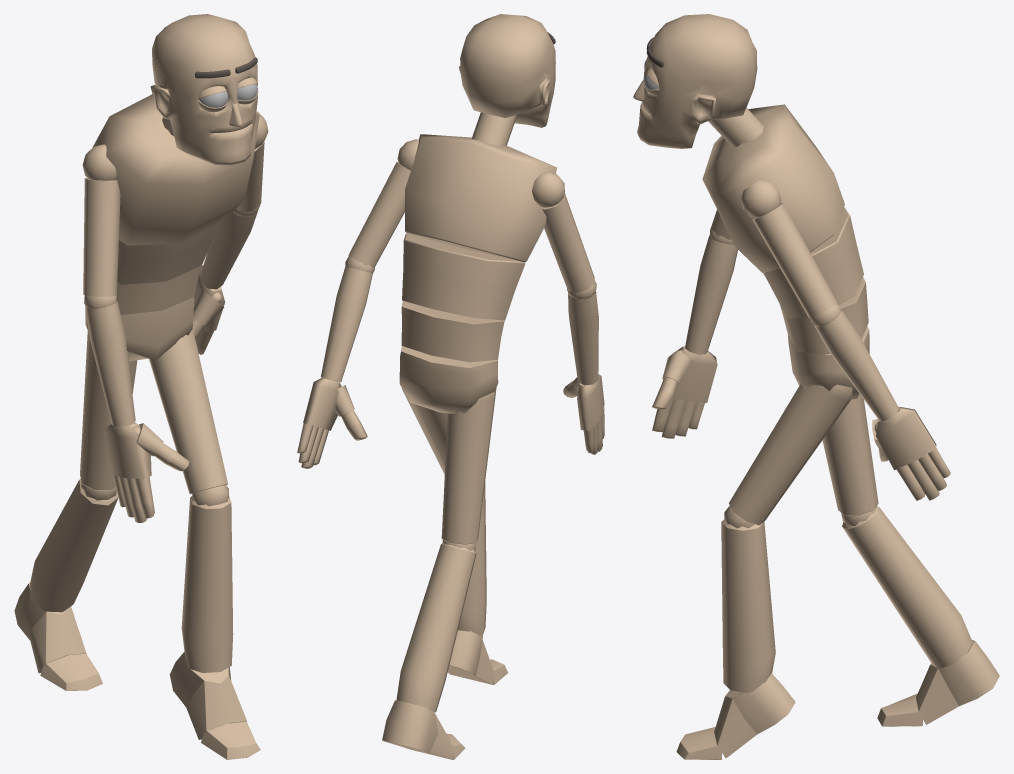
Rendered from Pose.fbx.
3 views of the same model, side by side, from view 1: azimuth 30°, elevation 25°; view 2: azimuth 150°, elevation 25°; view 3: azimuth 270°, elevation 25° (orthographic). The views are drawn at different scales.
Parts seen in each view (by area): view 1: Chest, Head, LeftCalf, LeftThigh, RightCalf, RightUpperArm, RightForearm, LeftHeel, RightThigh, UpperBack, RightHeel, Pelvis (+11 smaller); view 2: Chest, Head, UpperBack, RightCalf, RightThigh, Pelvis, LowerBack, LeftForearm, LeftUpperArm, RightUpperArm, RightHeel, RightForearm (+7 smaller); view 3: Chest, Head, RightCalf, LeftCalf, LeftThigh, RightThigh, LeftUpperArm, UpperBack, RightHeel, LeftHeel, LeftForearm, RightForearm (+9 smaller).
Boxes of the visible parts, box(x1,y1,x2,y2) form: Chest: box(92, 94, 259, 245); Head: box(150, 14, 257, 165); LeftCalf: box(181, 496, 233, 672); LeftThigh: box(149, 328, 227, 494); RightCalf: box(30, 478, 118, 612); RightUpperArm: box(83, 178, 120, 296); RightForearm: box(85, 300, 135, 426); LeftHeel: box(169, 652, 246, 739); RightThigh: box(80, 330, 137, 490); UpperBack: box(117, 224, 220, 284); RightHeel: box(14, 582, 86, 673); Pelvis: box(85, 297, 194, 361); Chest: box(405, 134, 556, 262); Head: box(459, 14, 555, 127); UpperBack: box(402, 233, 525, 320); RightCalf: box(396, 542, 476, 712); RightThigh: box(441, 388, 496, 544); Pelvis: box(399, 346, 498, 413); LowerBack: box(401, 301, 504, 362); LeftForearm: box(321, 266, 372, 382); LeftUpperArm: box(348, 161, 410, 267); RightUpperArm: box(542, 193, 594, 292); RightHeel: box(382, 700, 453, 759); RightForearm: box(568, 292, 598, 385); Chest: box(702, 104, 844, 272); Head: box(637, 14, 757, 148); RightCalf: box(842, 506, 972, 668); LeftCalf: box(721, 519, 775, 692); LeftThigh: box(728, 384, 852, 525); RightThigh: box(822, 393, 878, 515); LeftUpperArm: box(752, 203, 837, 317); UpperBack: box(763, 207, 863, 318); RightHeel: box(916, 640, 999, 724); LeftHeel: box(714, 673, 795, 757); LeftForearm: box(814, 310, 899, 421); RightForearm: box(685, 235, 737, 354).
Bounding box in the file's own units: 59.64 × 186 × 86.2.
